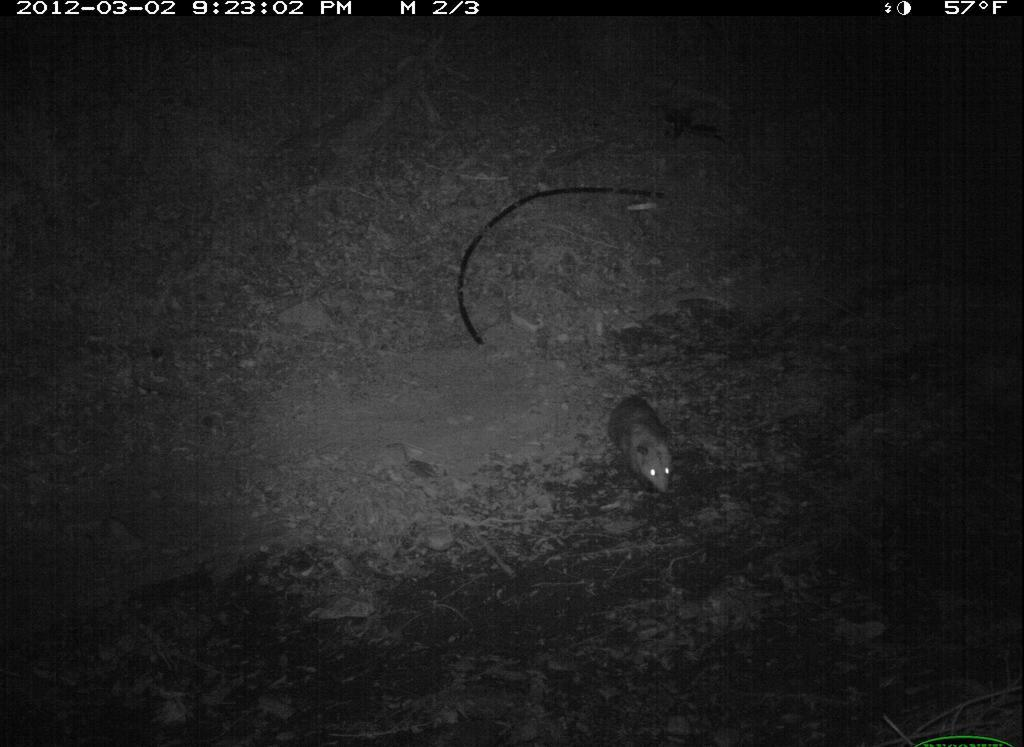opossum: (584, 351, 703, 513)
